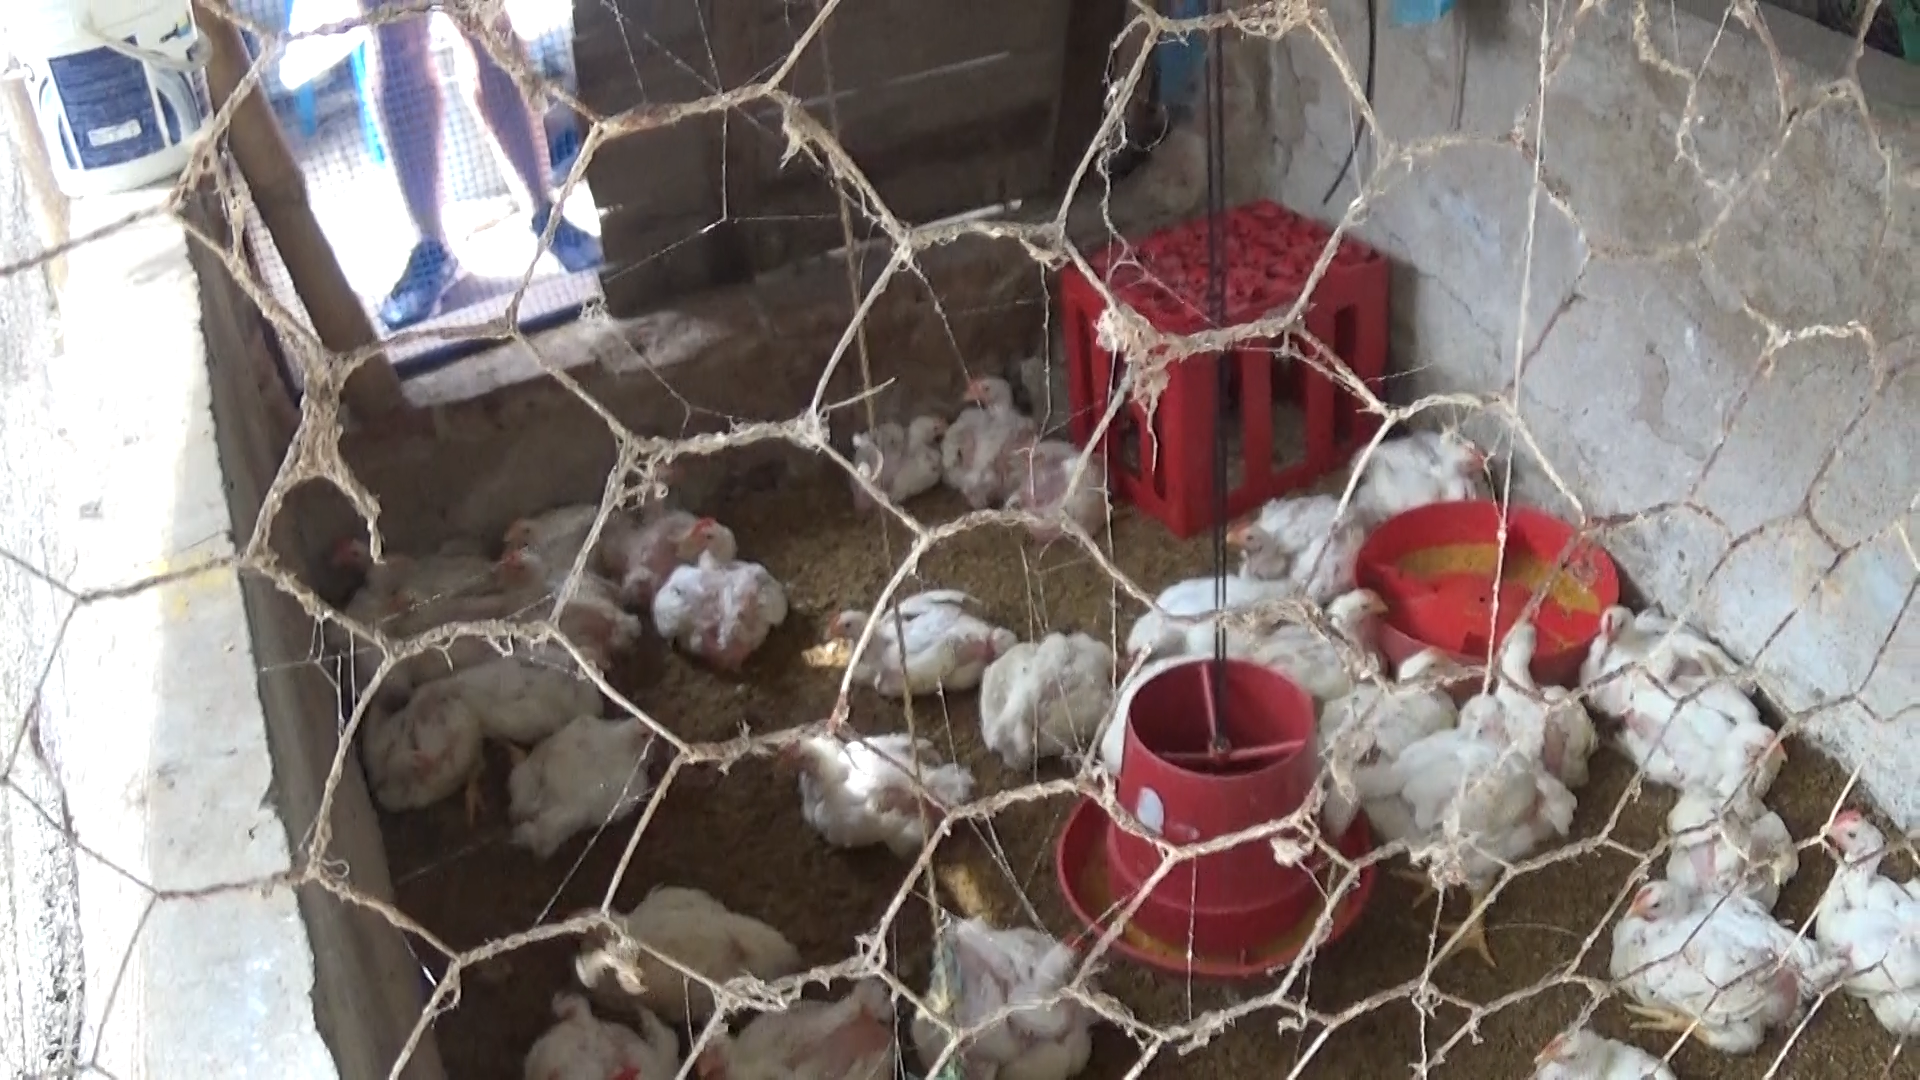Pollos: (1367, 698, 1557, 938), (1588, 864, 1821, 1047), (913, 891, 1114, 1073), (793, 558, 1001, 698), (965, 601, 1126, 769), (770, 721, 960, 855), (1822, 789, 1920, 1047), (1481, 622, 1613, 803), (580, 884, 811, 986), (702, 975, 920, 1077), (1669, 712, 1800, 880), (508, 728, 669, 864), (647, 545, 795, 688), (353, 676, 485, 814), (502, 975, 669, 1080), (299, 529, 495, 611), (1222, 477, 1360, 593), (621, 495, 760, 603), (1590, 574, 1698, 708), (1357, 419, 1505, 516), (926, 363, 1031, 488), (1284, 585, 1414, 671), (505, 497, 628, 576)
